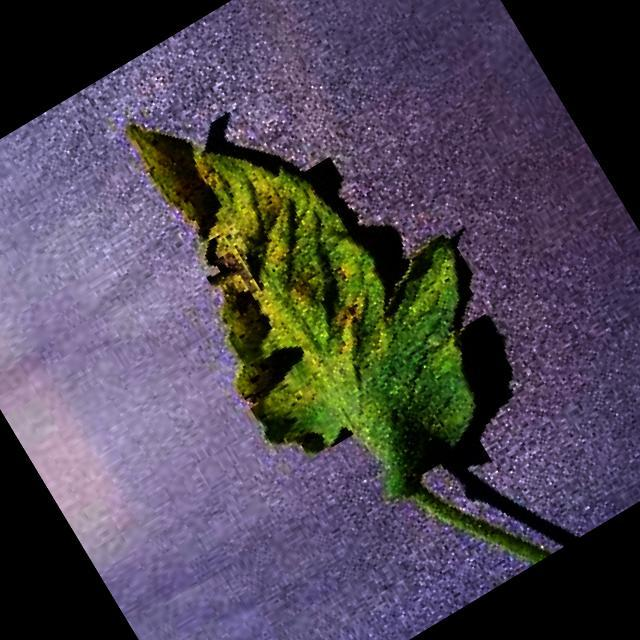Tomato Septoria spot leaf: (88, 8, 549, 534)
